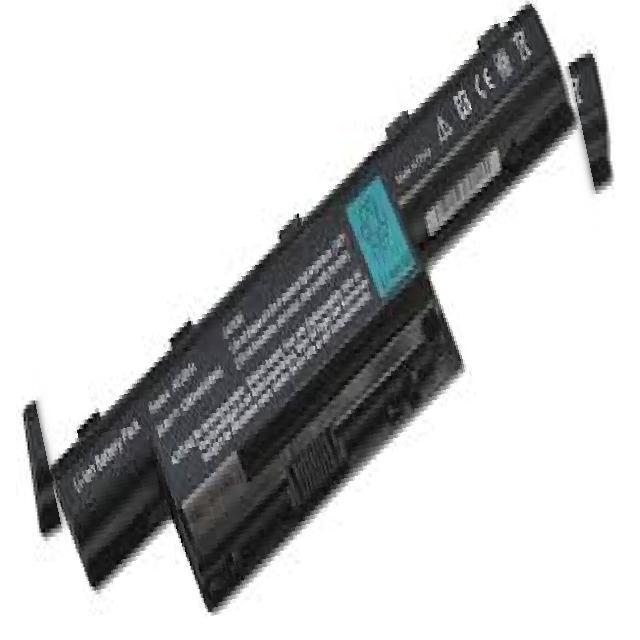Battery: (42, 0, 580, 640)
